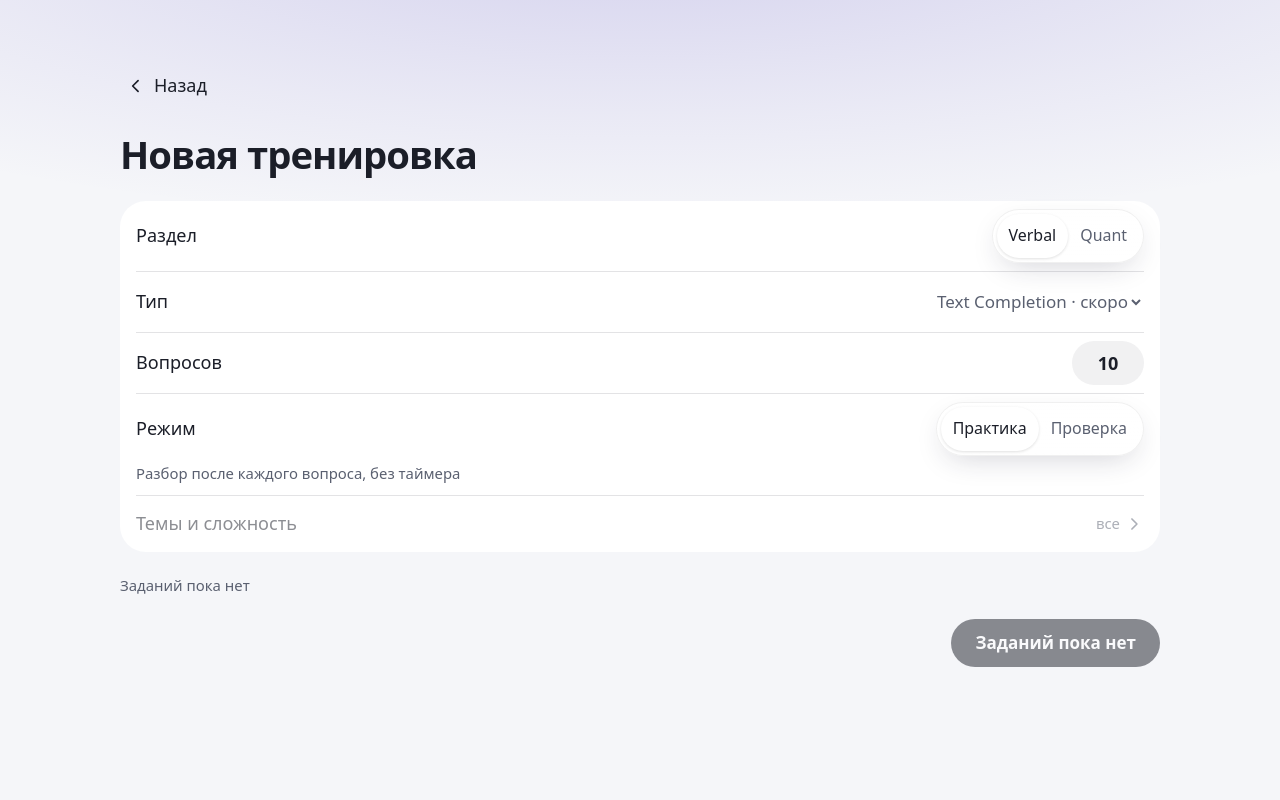
Test: нет заданий — начать нельзя, незаполненное число тоже блокирует
Check: the field labelled "Вопросов" is shown, box [1072,341,1144,385]
Check: the button "Заданий пока нет" is disabled, box [952,619,1160,667]
Select "Sentence Equivalence" in the dropdown labelled "Тип" at (1038, 302), box [933,280,1144,324]
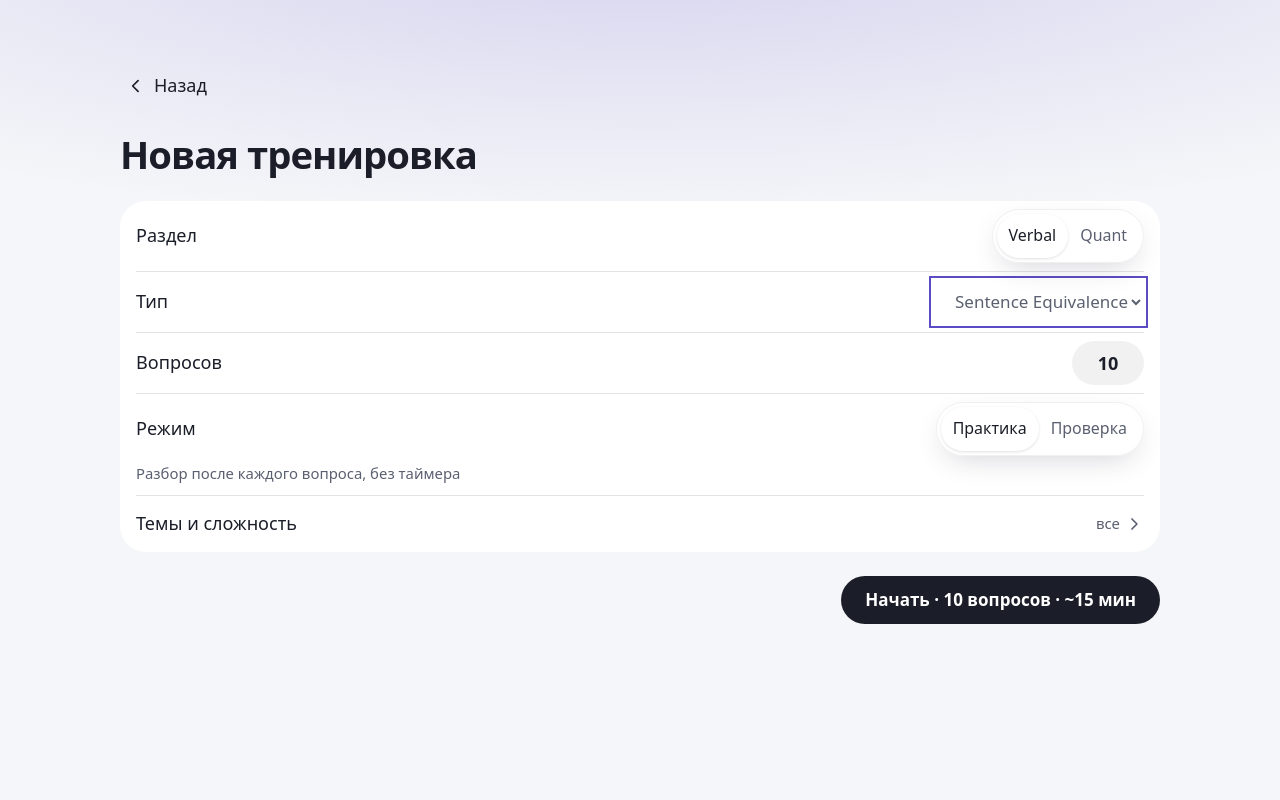
Clear the field labelled "Вопросов" at (1108, 363), box [1072,341,1144,385]
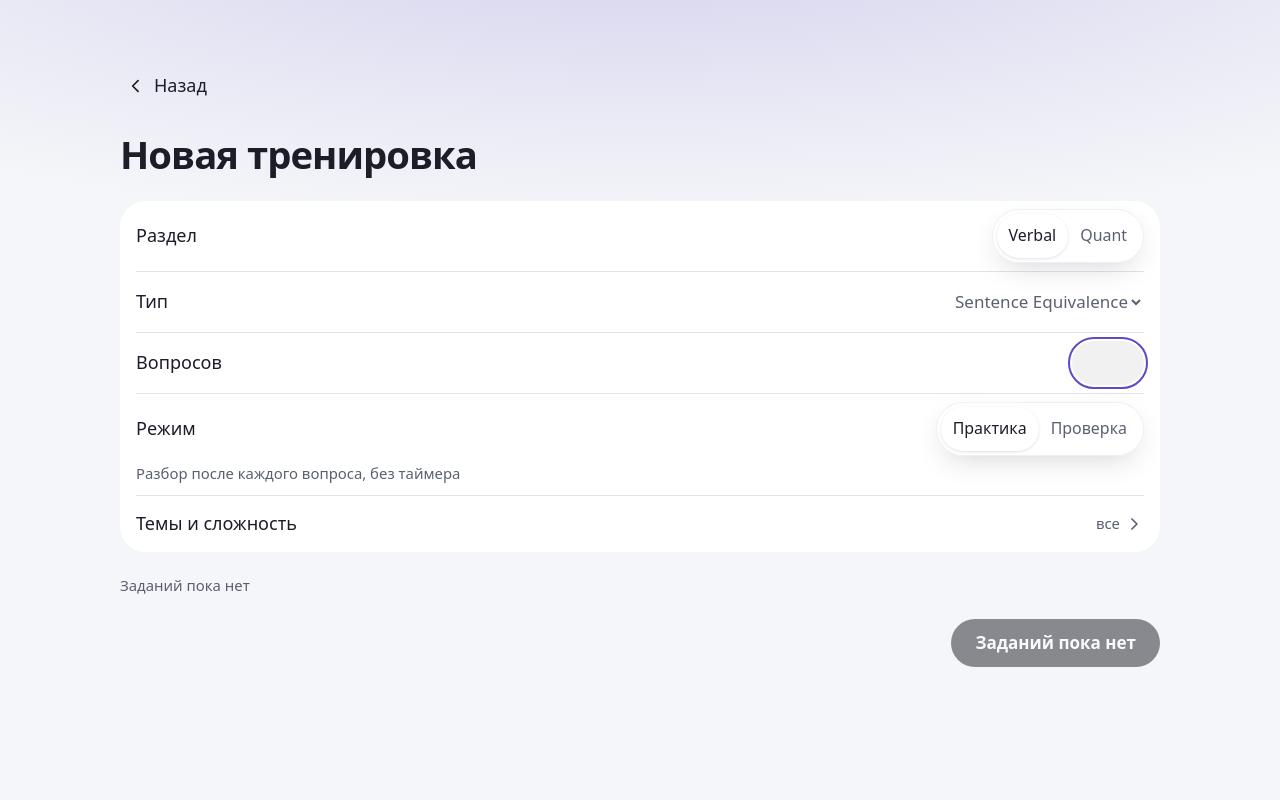
Check: the button "Заданий пока нет" is disabled, box [952,619,1160,667]
